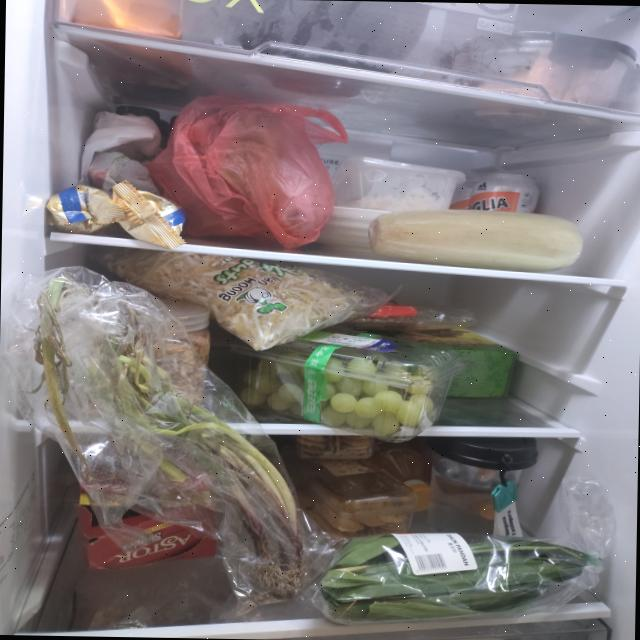bean_sprouts: (102, 248, 368, 352)
corn: (366, 208, 584, 272)
grape: (240, 349, 434, 436)
leafy_greens: (318, 533, 589, 625)
spring_onion: (20, 276, 309, 606)
